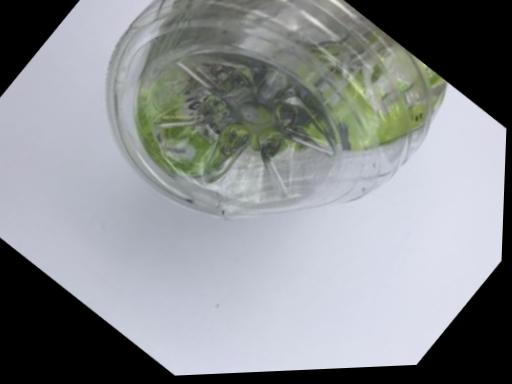plastic: (32, 0, 504, 373)
